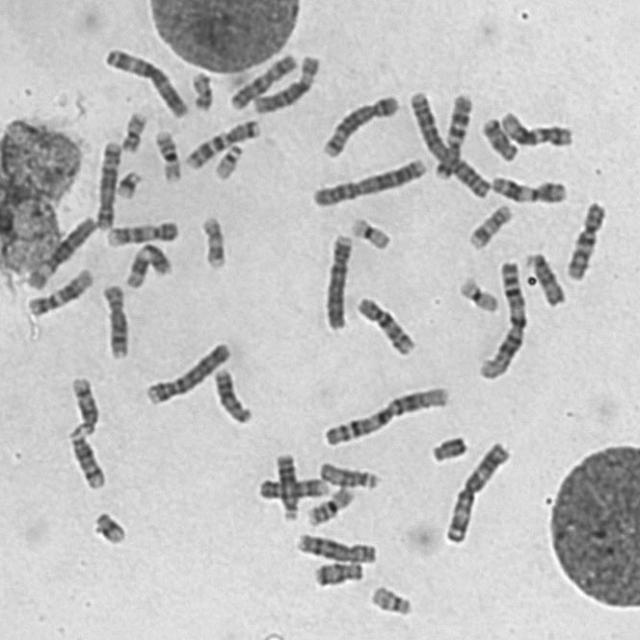A1: (321, 381, 452, 449), (475, 256, 531, 386)
A2: (407, 88, 493, 202), (310, 155, 429, 209)
A3: (442, 437, 511, 548), (99, 45, 192, 120)
B4: (144, 340, 234, 406), (320, 233, 355, 334)
B5: (320, 92, 401, 162), (94, 139, 125, 232)
C10: (353, 294, 416, 358), (564, 199, 610, 284)
C11: (124, 241, 174, 292), (491, 174, 568, 205)
C12: (27, 267, 95, 318), (498, 110, 576, 151)
C6: (23, 214, 98, 292), (250, 52, 323, 117)
C7: (184, 118, 262, 172), (433, 92, 474, 181)
C8: (295, 530, 379, 567), (100, 283, 132, 362)
C9: (104, 218, 182, 251), (255, 476, 332, 502)
D13: (213, 366, 254, 427), (272, 449, 302, 525)
D14: (66, 429, 109, 491), (66, 371, 102, 433)
D15: (522, 249, 569, 308), (317, 460, 382, 492)
E16: (150, 128, 185, 185), (306, 487, 356, 526)
E17: (466, 202, 514, 251), (198, 213, 228, 272)
E18: (478, 116, 521, 163), (312, 560, 366, 589)
F19: (457, 275, 499, 316), (350, 215, 392, 253)
F20: (188, 67, 215, 115), (120, 109, 148, 155)
G21: (87, 508, 134, 548), (115, 169, 144, 201)
G22: (368, 581, 416, 620), (211, 142, 245, 182)
X: (225, 49, 299, 113)
Y: (430, 435, 467, 466)
